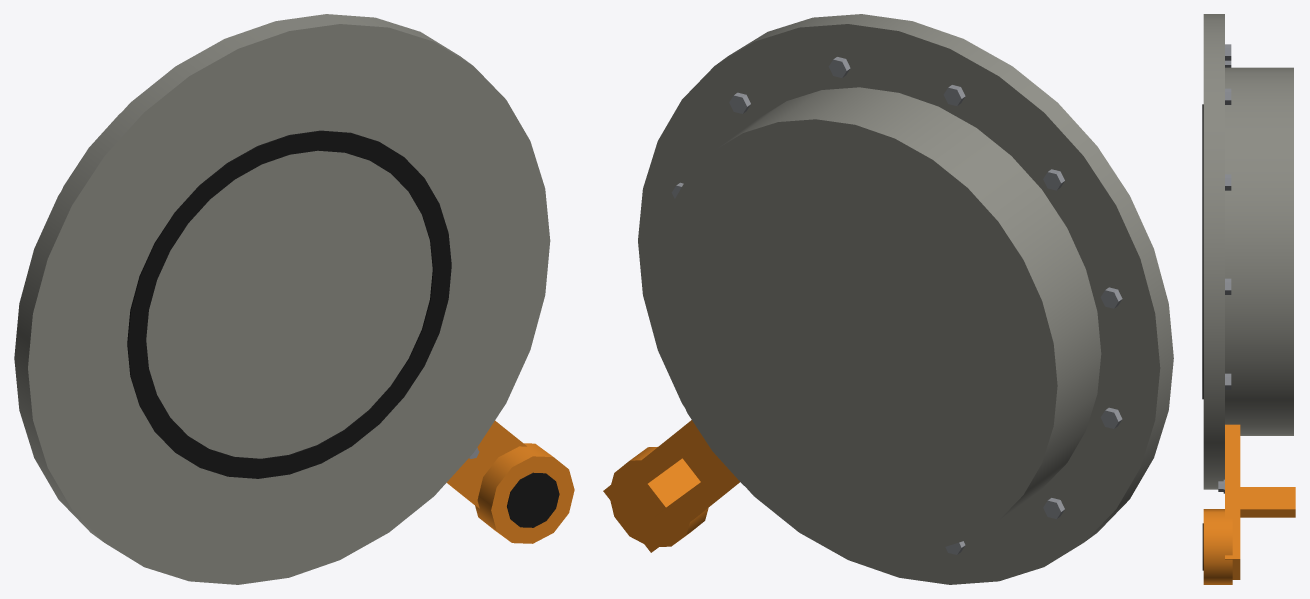
Rendered from bunk500_flange_aft.obj.
3 renders of one model, left to right at view 1: azimuth 30°, elevation 25°; view 2: azimuth 150°, elevation 25°; view 3: azimuth 270°, elevation 25°, orthographic. The views are drawn at different scales.
Parts seen in each view (by area): view 1: bunk500_flange_aft; view 2: bunk500_flange_aft; view 3: bunk500_flange_aft.
Boxes of the visible parts, bbox=[...] form: bunk500_flange_aft: bbox=[14, 14, 574, 584]; bunk500_flange_aft: bbox=[603, 14, 1173, 584]; bunk500_flange_aft: bbox=[1202, 14, 1295, 584].
Size of the model in its own units: 3.25 by 3.25 by 0.6072.
